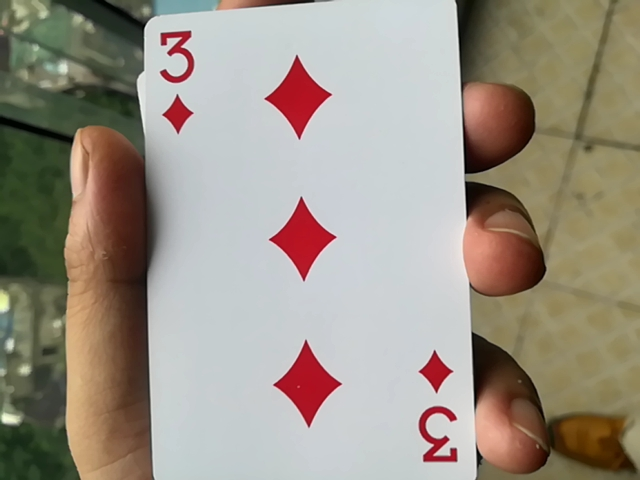fk 3: (119, 3, 481, 476)
